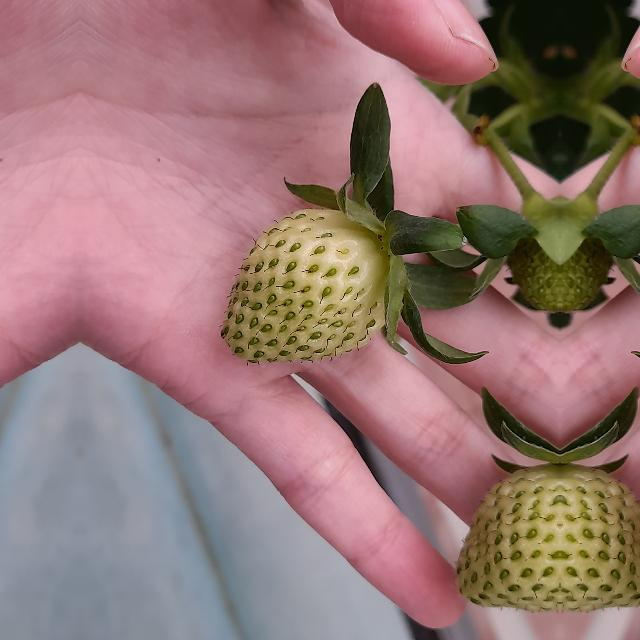Health_25: (220, 208, 390, 364), (449, 464, 559, 612), (561, 464, 640, 611)
